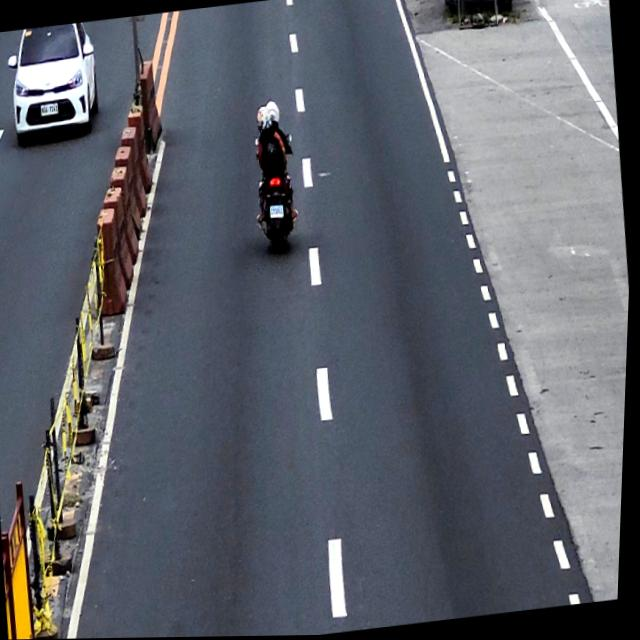License-Plate: (270, 206, 285, 219)
Motorcycle: (253, 132, 305, 253)
